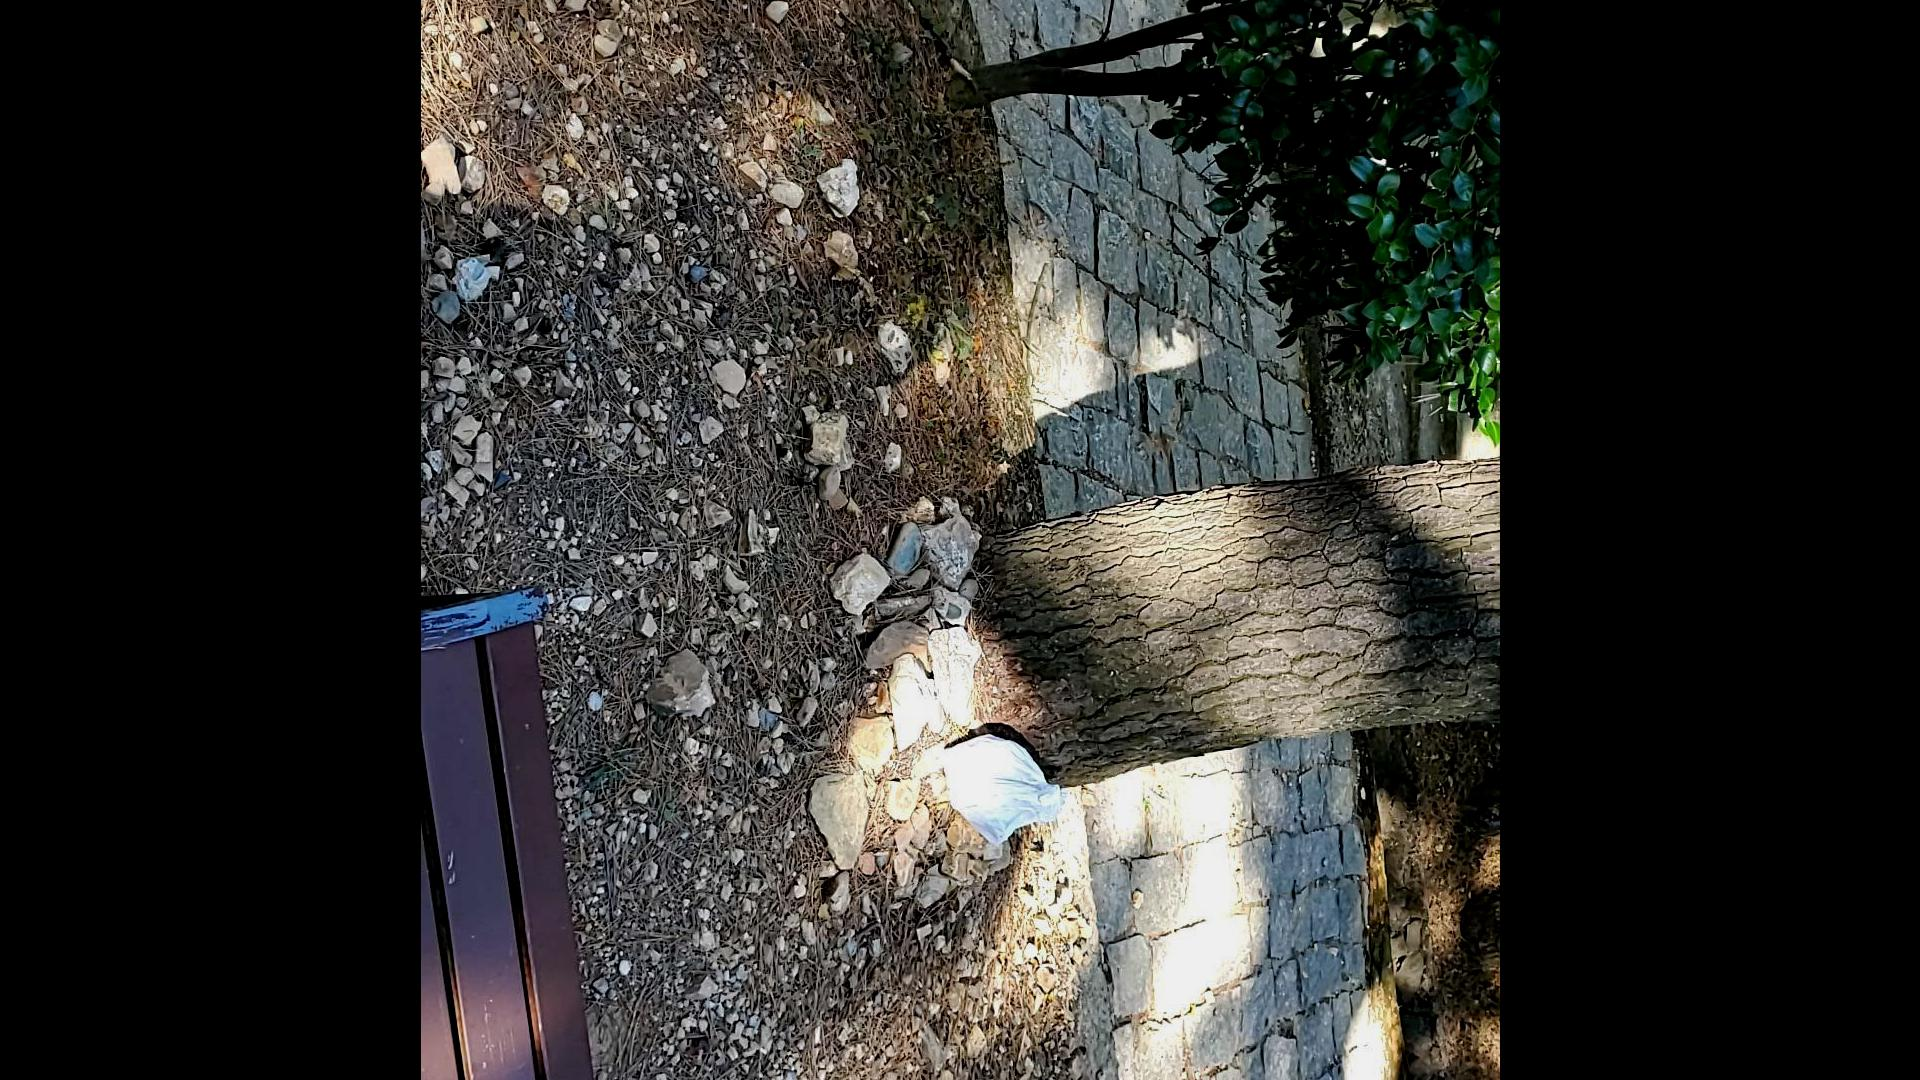white_bag: (939, 727, 1069, 849)
